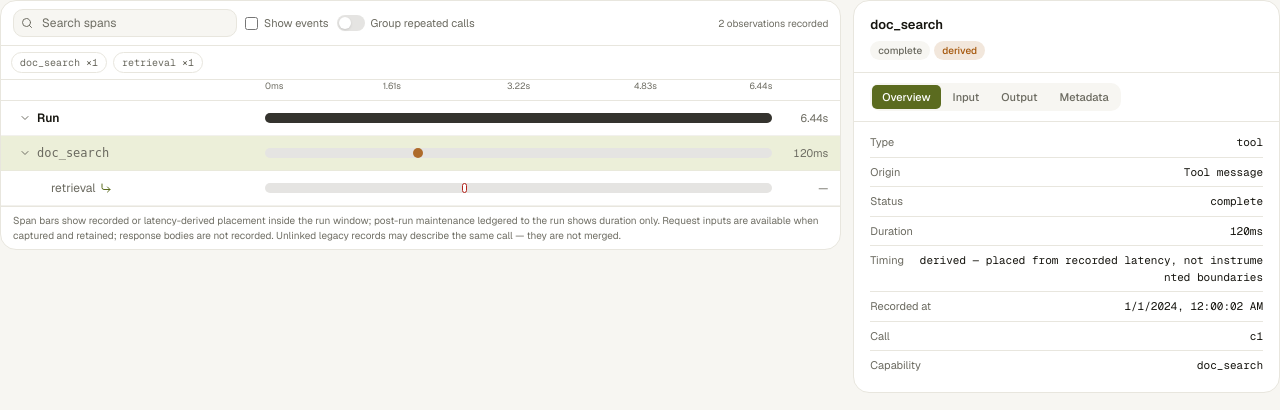
Scenario: RunTimeline — corrections › a hidden selection falls back to a visible row
Click the list item with test id "trace-row-child-1" at (421,188), box [1,171,840,206]
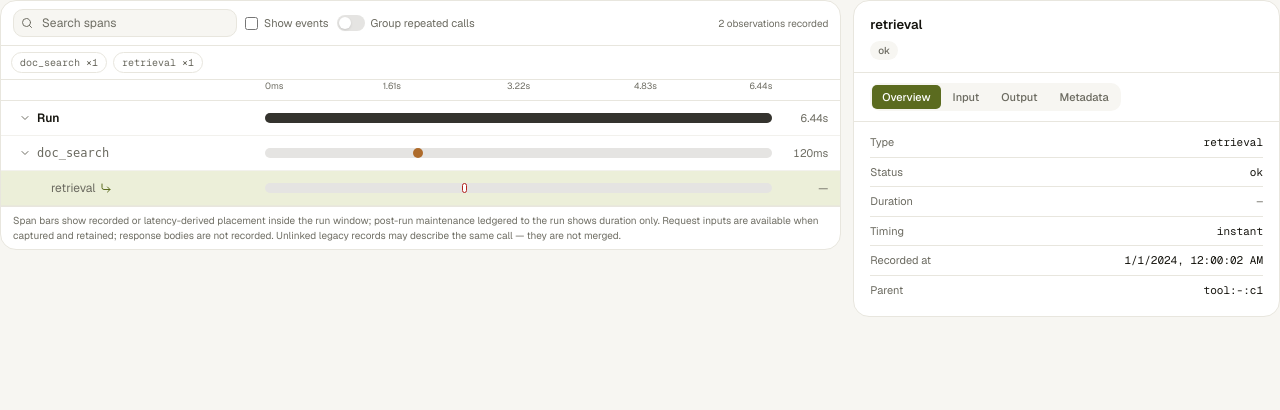
Type "doc_search" into the field named "Search trace spans" at (125,23), box [13,9,237,37]
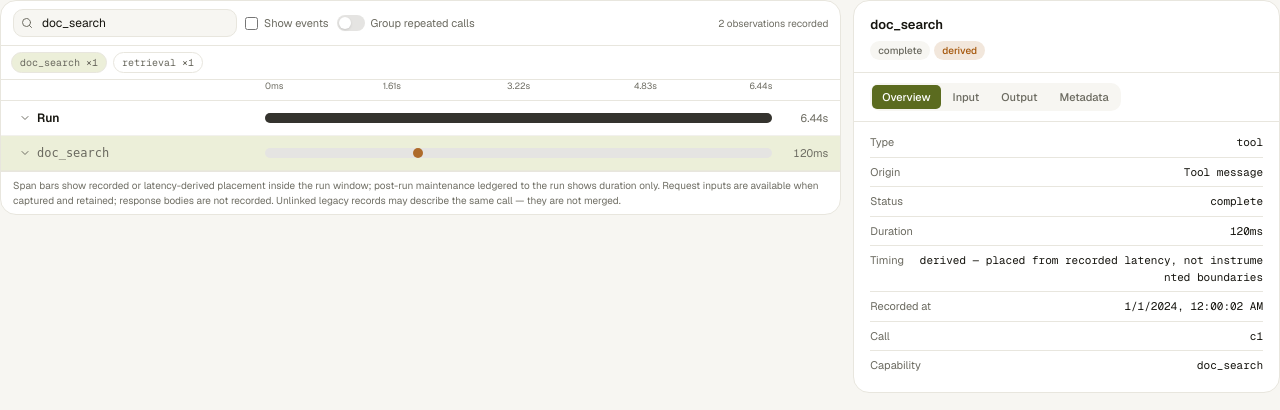
Expected: the element with test id "trace-inspector" shows "doc_search", [870,16,943,33]
